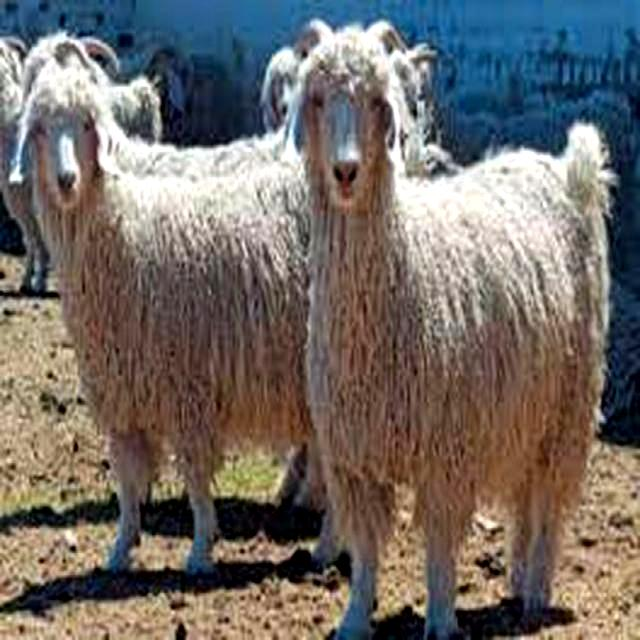sheep: (250, 21, 616, 638), (8, 63, 309, 576)
